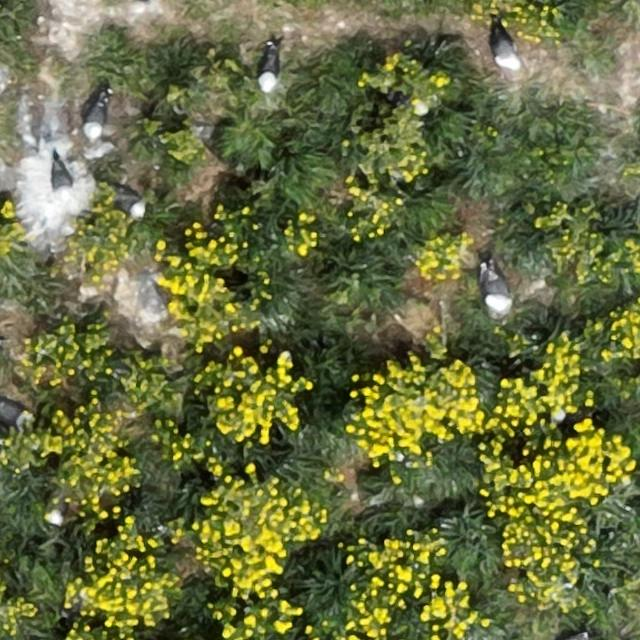umineko: (41, 156, 75, 202), (491, 23, 522, 73), (485, 270, 510, 313), (115, 190, 144, 217), (260, 50, 278, 90), (87, 100, 107, 135), (0, 400, 24, 423)
